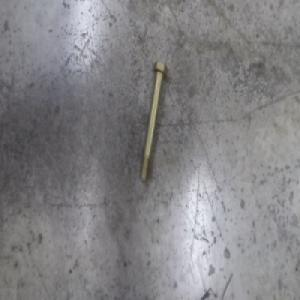Bolt: (138, 60, 168, 183)
